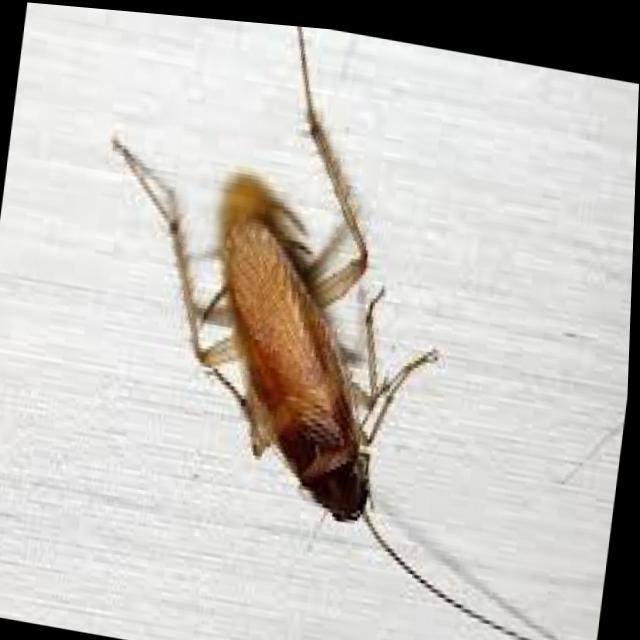Cockroach: (44, 4, 640, 640)
